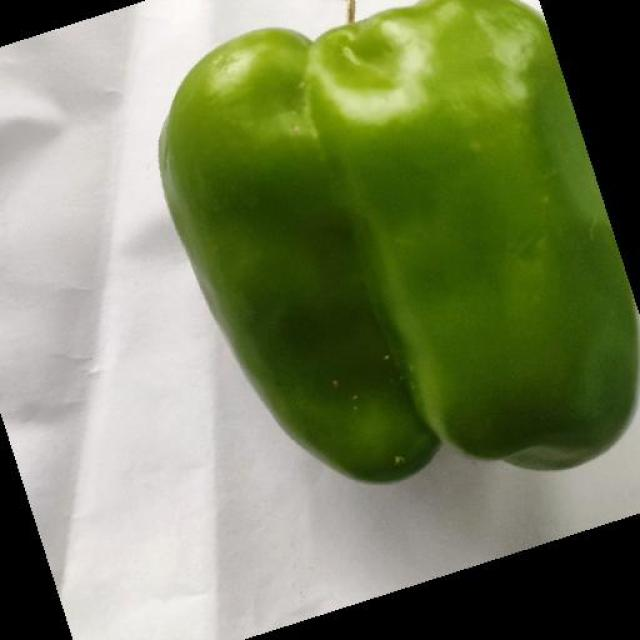Fresh_Capsicum: (153, 34, 640, 484)
